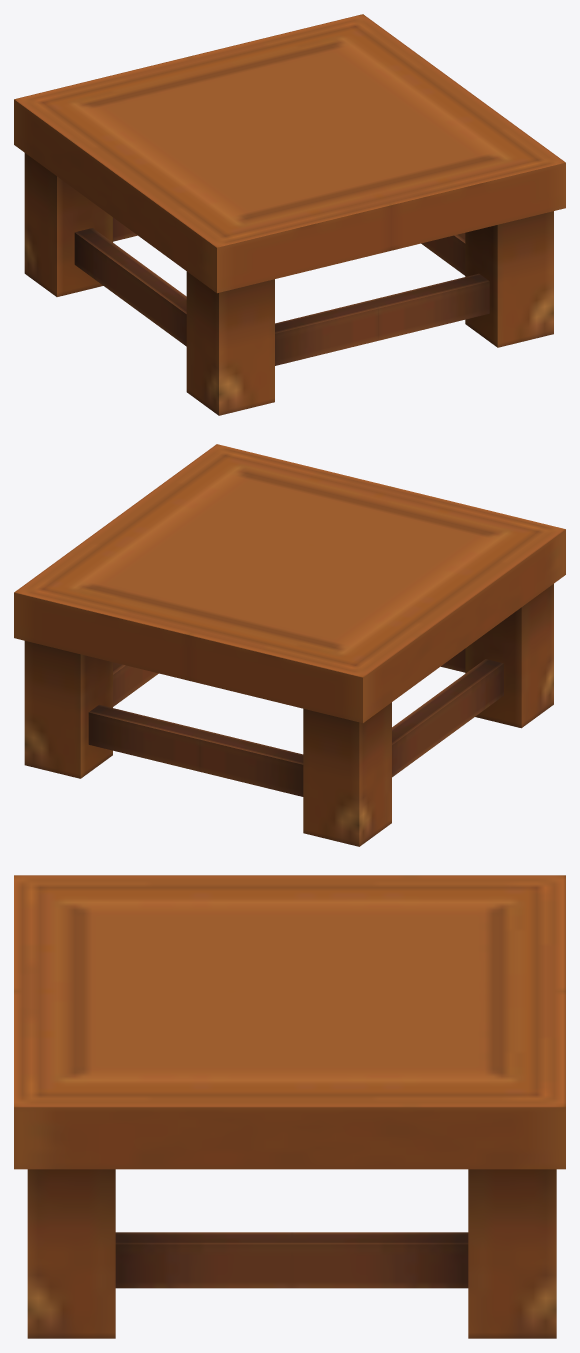
Rendered from Table_02.gltf.
3 views of the same model, one above another, from view 1: azimuth 30°, elevation 25°; view 2: azimuth 150°, elevation 25°; view 3: azimuth 270°, elevation 25° (orthographic). The views are drawn at different scales.
Parts seen in each view (by area): view 1: Table_02; view 2: Table_02; view 3: Table_02.
Boxes of the visible parts, x1,y1,x2,y2 form: Table_02: (14,14,565,415); Table_02: (14,444,565,846); Table_02: (14,875,565,1338).
Size of the model in its own units: 33.69 by 15.99 by 33.91.
Materials: 1 (1 with a texture image).
